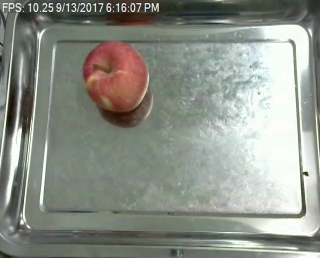Apple: (81, 40, 150, 112)
